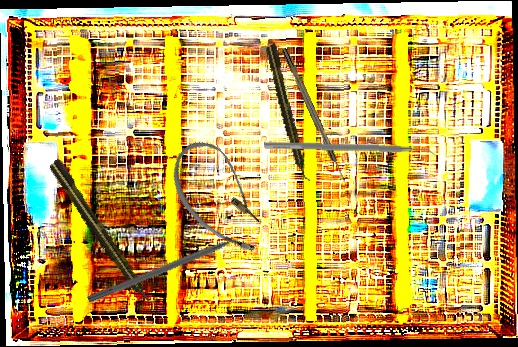Cannula: (155, 131, 287, 264)
Handpiece: (46, 157, 158, 311), (264, 42, 311, 184)
Hook Surgical: (281, 46, 348, 186)
Pusher: (86, 228, 257, 306)
Spatula Surgical: (263, 141, 438, 160)
